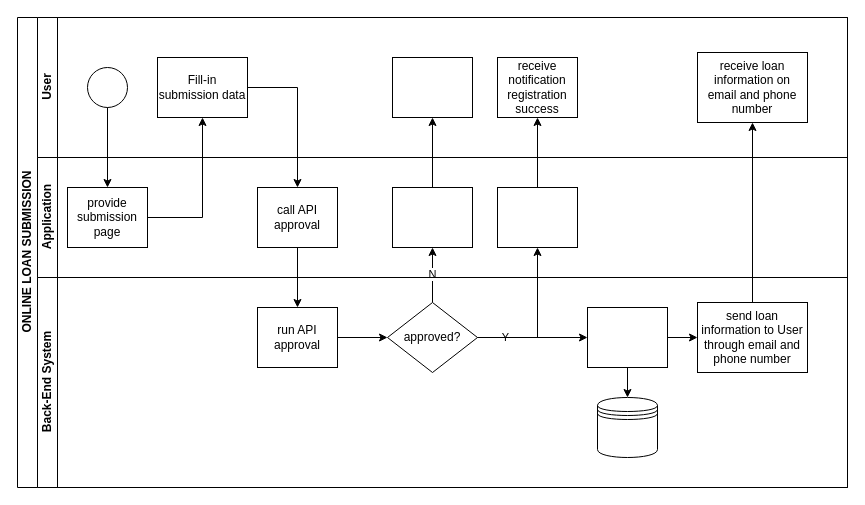
Some shapes in this 865 by 505 pixel diagram are drawn without their labels. Here are the shapes that lost their labels. From the top down, the centre of each, then its label:
At (107,87): "Start".
At (432,87): "receive notification registration failed".
At (432,217): "send notification registration failed".
At (537,217): "send notification registration success".
At (627,337): "Save loan data to Database".
At (627,427): "ONLOAN DB".
